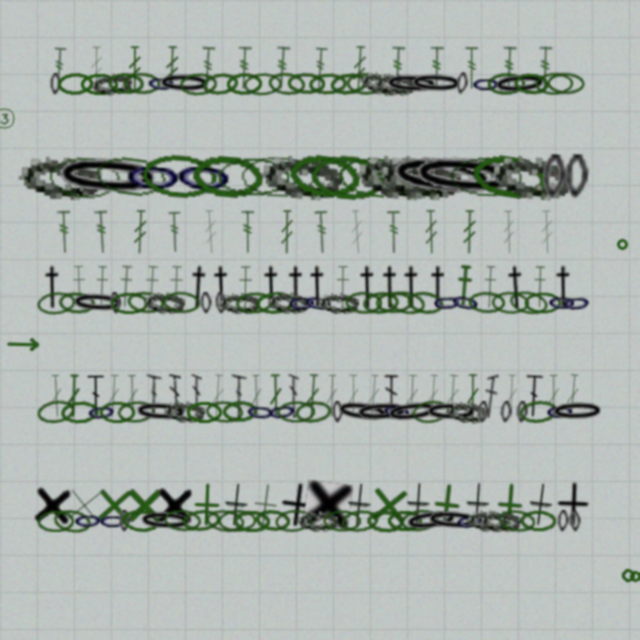chain: (385, 149, 499, 205), (408, 150, 521, 203), (52, 152, 164, 202), (259, 151, 344, 202), (355, 151, 440, 202), (489, 151, 574, 202), (469, 150, 549, 204), (90, 150, 170, 203), (286, 150, 364, 203), (378, 152, 462, 201), (334, 151, 414, 202), (18, 153, 102, 201), (309, 152, 386, 202), (140, 152, 218, 201), (190, 152, 266, 202), (46, 153, 122, 201), (239, 154, 316, 200), (448, 154, 525, 200), (215, 155, 291, 199), (172, 153, 236, 201), (122, 153, 185, 200), (403, 506, 460, 535), (334, 398, 391, 426), (384, 398, 441, 426), (492, 71, 548, 97), (425, 508, 481, 533), (70, 291, 126, 315), (133, 400, 189, 424), (354, 400, 410, 424), (384, 72, 439, 96), (138, 509, 193, 533), (359, 69, 403, 98), (157, 72, 212, 95), (409, 72, 464, 95), (550, 400, 605, 423), (424, 401, 479, 423), (386, 288, 427, 317), (508, 288, 549, 317), (541, 154, 567, 199), (564, 154, 589, 199), (52, 507, 92, 535), (90, 71, 133, 97), (36, 398, 76, 425), (411, 398, 451, 425), (406, 289, 445, 316), (400, 507, 439, 534), (36, 290, 76, 316), (205, 508, 245, 534), (340, 508, 380, 534), (201, 71, 240, 97), (329, 71, 368, 97), (294, 399, 333, 425), (497, 508, 536, 534), (374, 72, 416, 96), (446, 400, 488, 424), (518, 399, 558, 424), (181, 508, 221, 533), (274, 508, 314, 533), (267, 71, 306, 96), (126, 290, 165, 315), (255, 290, 294, 315), (121, 508, 160, 533), (163, 508, 202, 533), (362, 290, 400, 315), (254, 508, 292, 533), (144, 291, 185, 314), (268, 291, 309, 314), (164, 400, 205, 423), (297, 509, 338, 532), (467, 509, 508, 532), (179, 72, 218, 96), (243, 72, 282, 96), (308, 72, 347, 96), (60, 400, 99, 424), (205, 400, 244, 424), (58, 291, 96, 315), (235, 291, 273, 315), (117, 400, 155, 424), (366, 509, 404, 533), (219, 292, 260, 314), (318, 292, 359, 314), (480, 510, 521, 532), (162, 291, 201, 314), (491, 291, 530, 314), (449, 289, 482, 316), (513, 72, 550, 96), (107, 72, 145, 95), (123, 72, 161, 95), (287, 72, 325, 95), (346, 72, 384, 95), (487, 72, 525, 95), (535, 72, 573, 95), (547, 72, 585, 95), (375, 291, 413, 314), (218, 509, 256, 532), (302, 290, 335, 316), (57, 72, 94, 95), (226, 72, 263, 95), (345, 291, 382, 314), (468, 291, 505, 314), (80, 73, 118, 95), (110, 292, 148, 314), (277, 401, 315, 423), (323, 510, 361, 532), (454, 508, 486, 534), (222, 400, 258, 423), (524, 292, 561, 314), (99, 401, 136, 423), (186, 401, 223, 423), (37, 510, 74, 532), (233, 510, 270, 532), (520, 510, 557, 532), (266, 399, 298, 424), (381, 399, 413, 424), (387, 510, 423, 532), (561, 291, 592, 315), (86, 400, 117, 424), (245, 400, 276, 424), (146, 72, 177, 95), (432, 291, 462, 314), (547, 291, 577, 314), (545, 400, 575, 423), (73, 509, 103, 532), (471, 73, 501, 95), (287, 292, 317, 314), (98, 510, 128, 532), (455, 72, 469, 95), (109, 292, 122, 314), (200, 292, 212, 314), (215, 292, 227, 314), (477, 401, 489, 423), (500, 401, 512, 423), (516, 401, 528, 423), (557, 510, 569, 532), (569, 510, 581, 532), (50, 73, 61, 95), (332, 401, 343, 423), (119, 510, 130, 532)
double: (524, 374, 544, 418), (87, 374, 105, 418), (564, 373, 581, 418), (105, 374, 122, 418), (145, 374, 162, 418), (209, 374, 226, 418), (230, 374, 247, 418), (304, 374, 321, 418), (365, 374, 382, 418), (424, 374, 441, 418), (444, 374, 461, 418), (48, 374, 64, 418), (404, 374, 420, 418), (483, 374, 499, 418), (66, 374, 81, 418), (125, 374, 140, 418), (249, 374, 264, 418), (268, 374, 283, 418), (324, 374, 339, 418), (384, 374, 399, 418), (465, 374, 480, 418), (504, 374, 519, 418), (546, 374, 561, 418), (346, 374, 360, 418), (169, 374, 181, 418), (191, 374, 202, 418), (288, 374, 299, 418)
half_double: (184, 264, 213, 310), (283, 265, 309, 309), (377, 265, 403, 309), (425, 265, 451, 309), (503, 265, 529, 309), (40, 265, 65, 309), (209, 265, 234, 309), (259, 265, 284, 309), (305, 265, 330, 309), (355, 265, 380, 309), (399, 265, 424, 309), (551, 265, 576, 309), (454, 264, 474, 309), (116, 264, 135, 309), (142, 265, 161, 309), (70, 265, 88, 309), (93, 265, 111, 309), (167, 265, 185, 309), (481, 265, 499, 309), (237, 265, 254, 309), (334, 265, 351, 309), (531, 265, 548, 309)
noise: (6, 337, 41, 351), (0, 106, 17, 131), (621, 568, 636, 583), (615, 237, 629, 251), (628, 569, 640, 583)
single: (303, 480, 353, 529), (241, 480, 290, 529), (60, 481, 108, 529), (365, 481, 413, 529), (423, 481, 471, 529), (486, 481, 533, 528), (91, 482, 137, 528), (31, 481, 75, 528), (184, 482, 229, 527), (122, 483, 166, 527), (154, 482, 196, 527), (277, 481, 316, 529), (555, 482, 590, 527), (527, 482, 555, 528), (223, 482, 250, 528), (346, 482, 373, 528), (465, 482, 491, 527), (406, 482, 431, 527)
treble: (199, 46, 217, 90), (273, 46, 291, 90), (313, 210, 331, 254), (348, 210, 366, 254), (51, 46, 68, 90), (312, 46, 329, 90), (351, 46, 368, 90), (389, 46, 406, 90), (93, 210, 110, 254), (202, 210, 219, 254), (164, 46, 180, 90), (236, 46, 252, 90), (464, 46, 480, 90), (501, 46, 517, 90), (537, 46, 553, 90), (56, 210, 72, 254), (132, 210, 148, 254), (167, 210, 183, 254), (386, 210, 402, 254), (423, 210, 439, 254), (539, 210, 555, 254), (89, 46, 104, 90), (127, 46, 142, 90), (429, 46, 444, 90), (240, 210, 255, 254), (462, 210, 477, 254), (501, 210, 516, 254), (280, 210, 294, 254)
